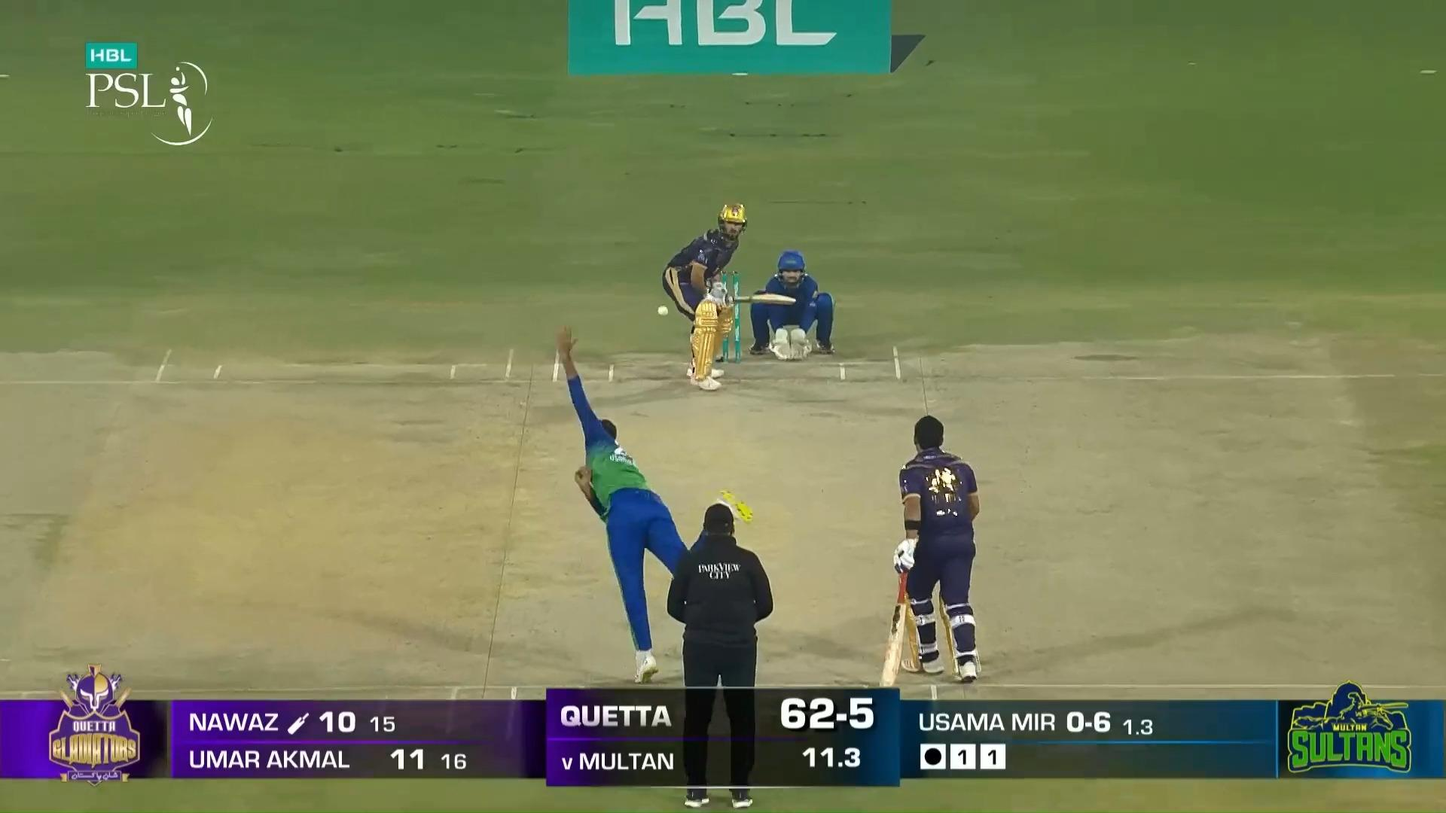batsman: (662, 201, 748, 391)
